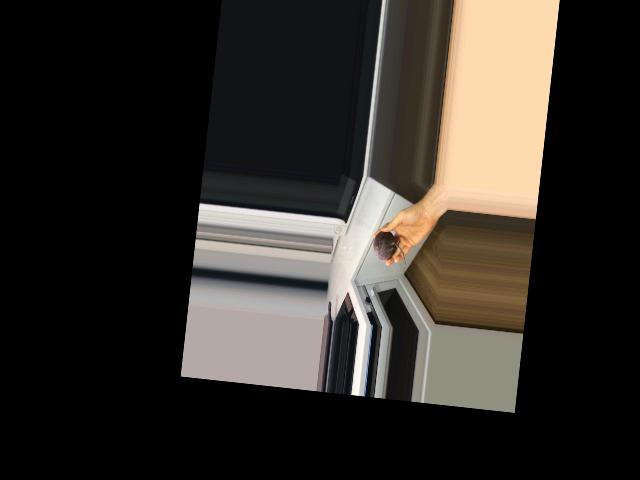beet: (371, 230, 409, 265)
